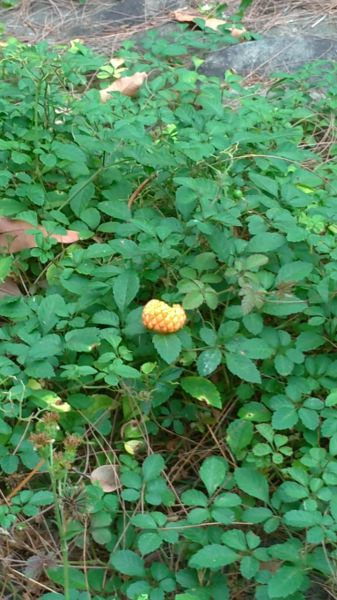eggs: (131, 294, 193, 337)
